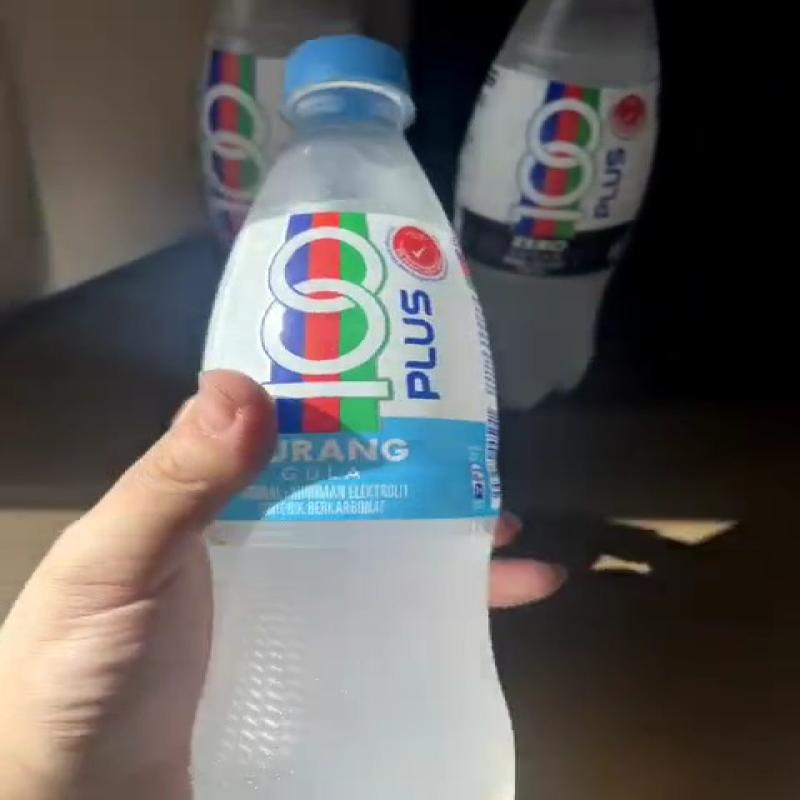botella: (194, 33, 514, 800), (459, 4, 654, 422), (194, 0, 389, 246)
